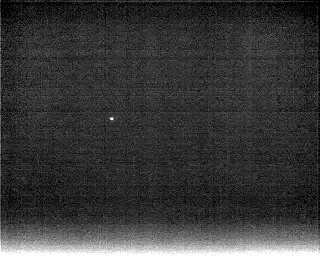AIRPLANE: (108, 114, 116, 123)
